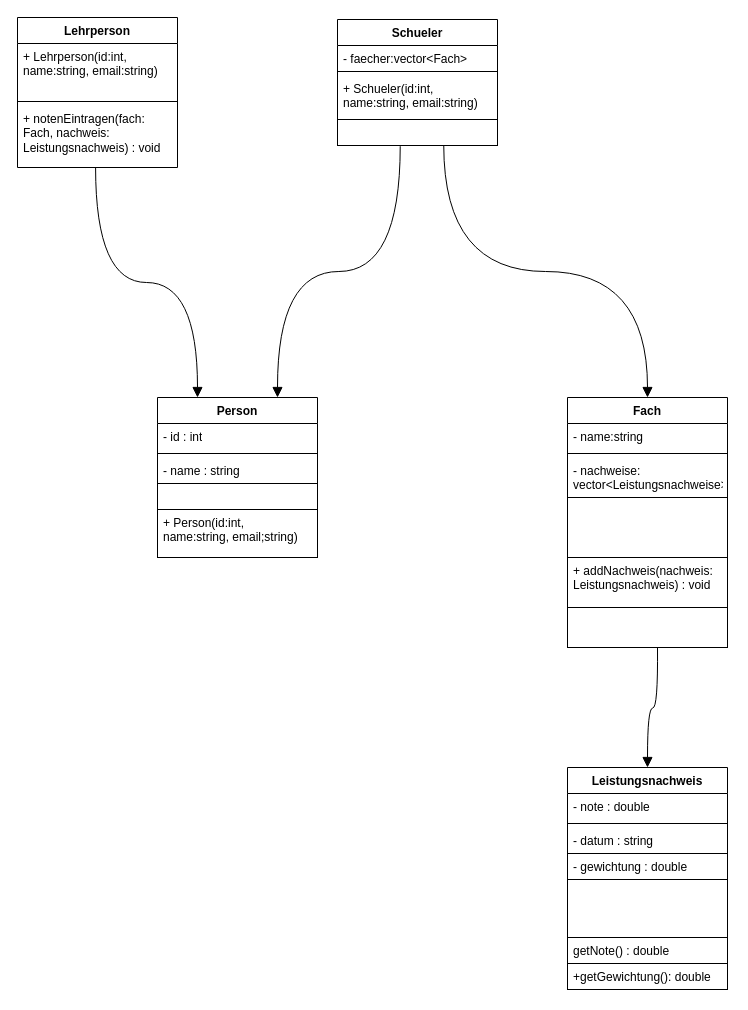
Image size: 748x1010. Some labels were removed from this diagram. Here are the shapes that lost their labels. From the top down, the box of each, then its label:
(336, 118, 498, 146): + addFach(fach:Fach) : void
(156, 482, 318, 510): - email : string
(566, 496, 728, 558): + Fach(name:string, nachweise: vector<Leistungsnachweise>)
(566, 606, 728, 648): + berechneDurchschnitt(): double
(566, 878, 728, 938): Leistungsnachweis(note: double, datum : string, gewichtung: double)
